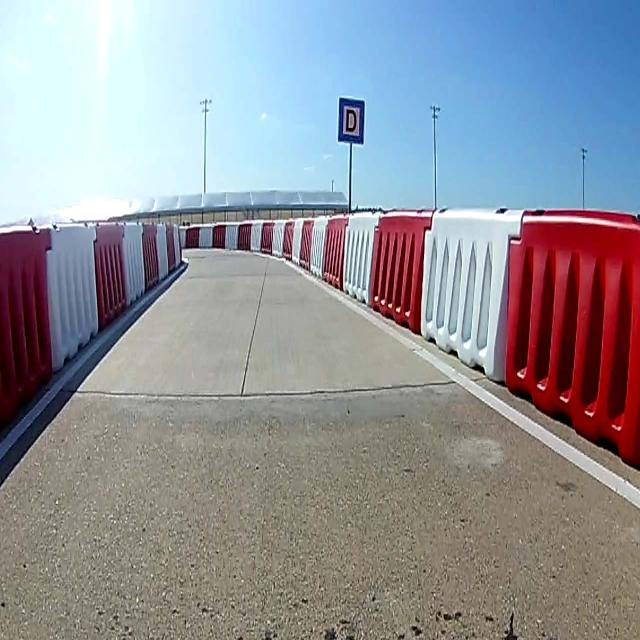durak: (337, 96, 365, 143)
